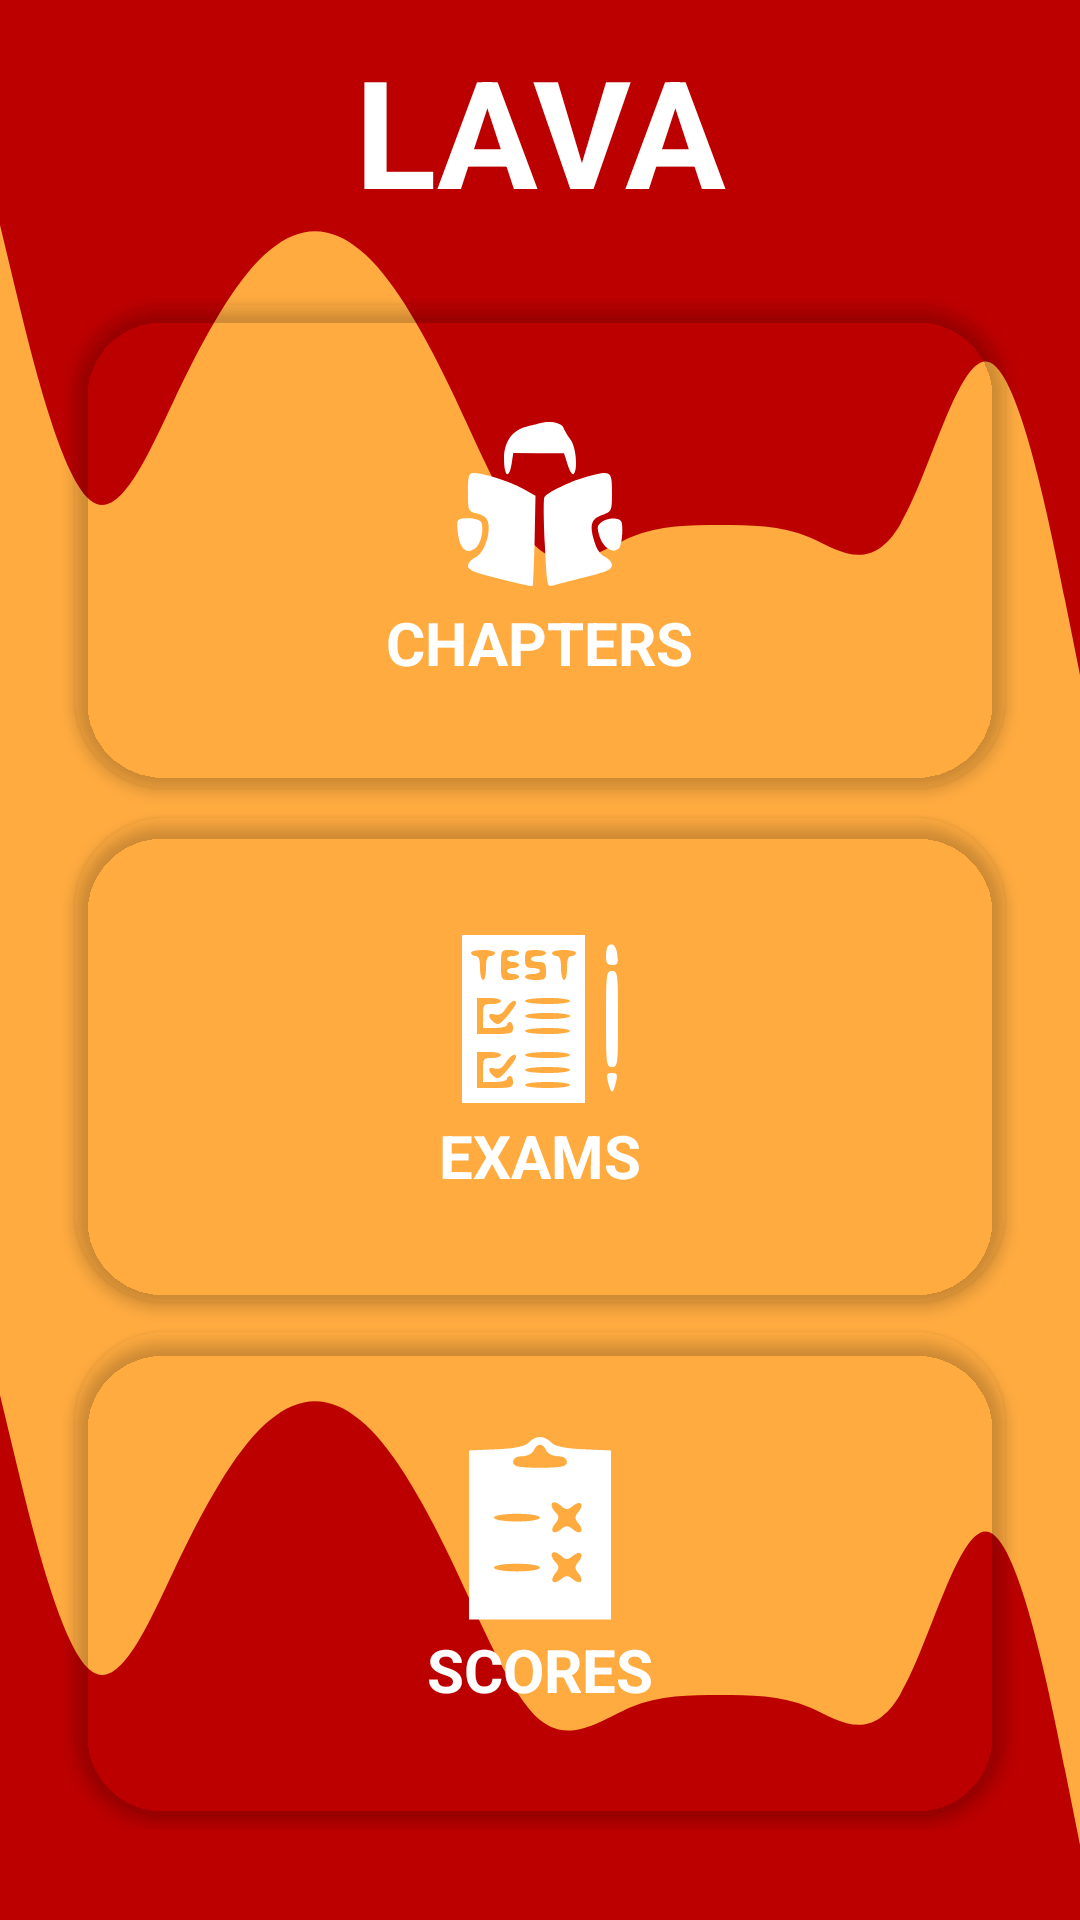

Icon bounding boxes for this 1080px x 1920px phone screenshot, format BBox(x1, y1, x2, y2):
subjects: BBox(457, 410, 636, 586)
